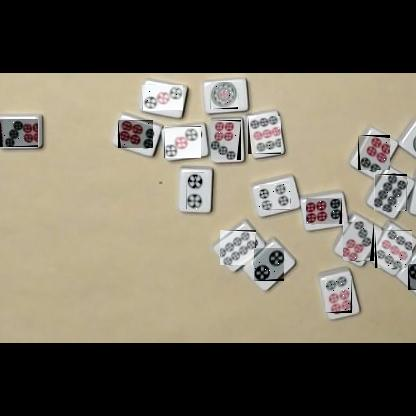1p: (210, 82, 238, 109)
2p: (254, 248, 284, 281), (186, 172, 204, 209), (408, 264, 416, 290)
3p: (164, 126, 201, 158), (142, 85, 183, 111)
4p: (259, 184, 290, 210)
6p: (358, 135, 390, 170), (325, 276, 352, 313), (118, 120, 153, 148), (306, 198, 342, 224)
7p: (343, 221, 374, 261), (211, 120, 241, 160), (0, 119, 38, 147)
8p: (220, 230, 256, 265), (374, 174, 407, 211)
9p: (375, 230, 412, 268), (248, 116, 281, 154)
